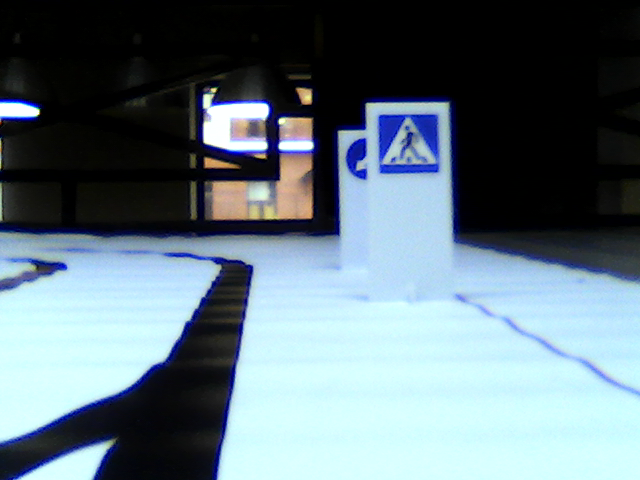pesh: (378, 111, 447, 177)
